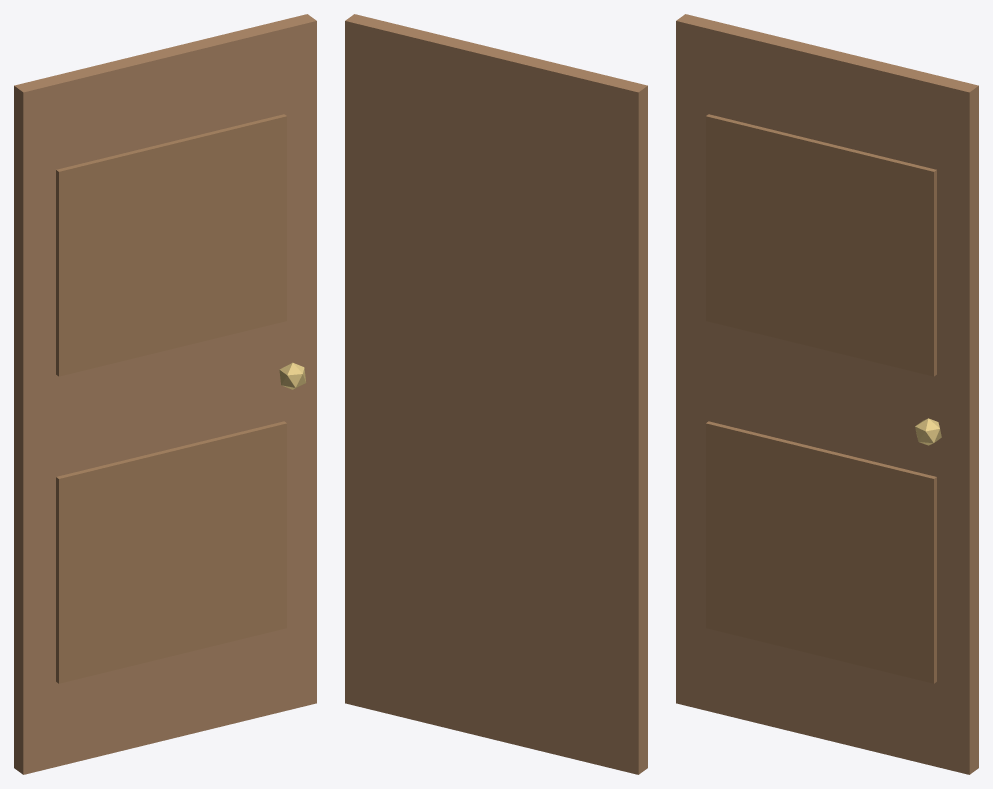
The model's file is DoorLeaf.fbx.
3 renders of one model, left to right at view 1: azimuth 30°, elevation 25°; view 2: azimuth 150°, elevation 25°; view 3: azimuth 330°, elevation 25°, orthographic.
Visible parts, largest first — view 1: DoorLeaf; view 2: DoorLeaf; view 3: DoorLeaf.
Part boxes in pixels (x1,y1,x2,y2): DoorLeaf: (14, 14, 316, 774); DoorLeaf: (345, 14, 647, 774); DoorLeaf: (676, 14, 978, 774).
Bounding box in the file's own units: 90 × 200 × 12.9.
